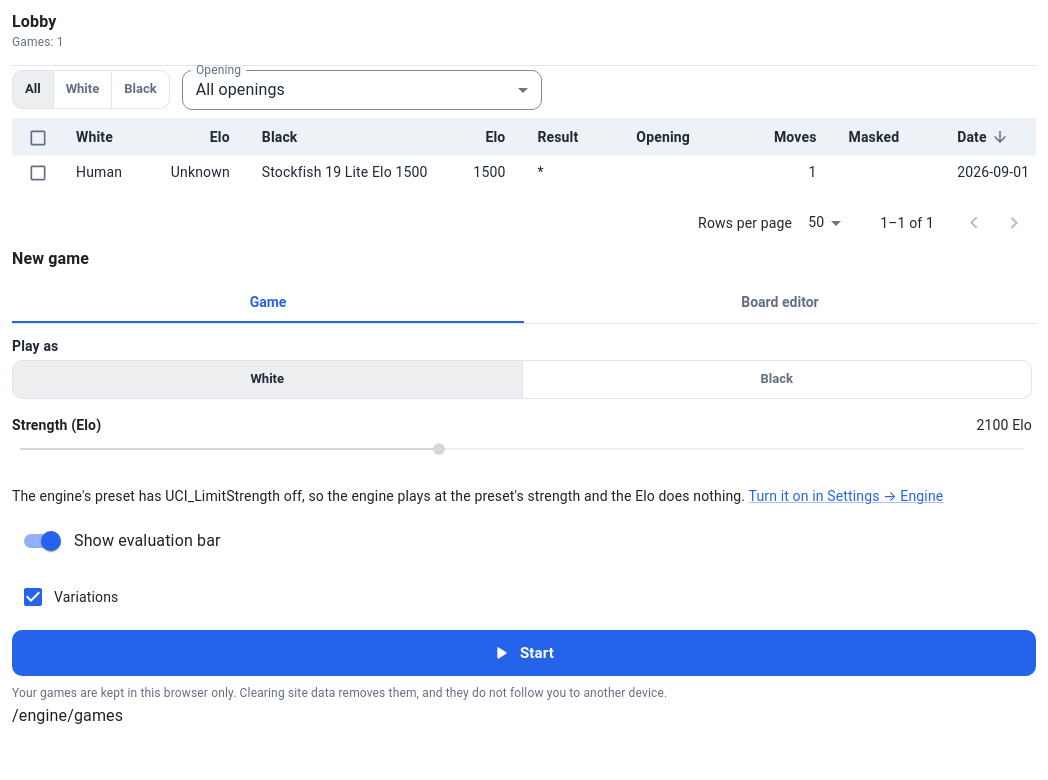
Test: Lobby — the table (CTA-100) › offers the one page-size set, 25 / 50 / 100 / 250, 50 by default (CTA-109)
Press the mouse on the dropdown labelled "50" at (816, 222), box [808, 214, 824, 230]
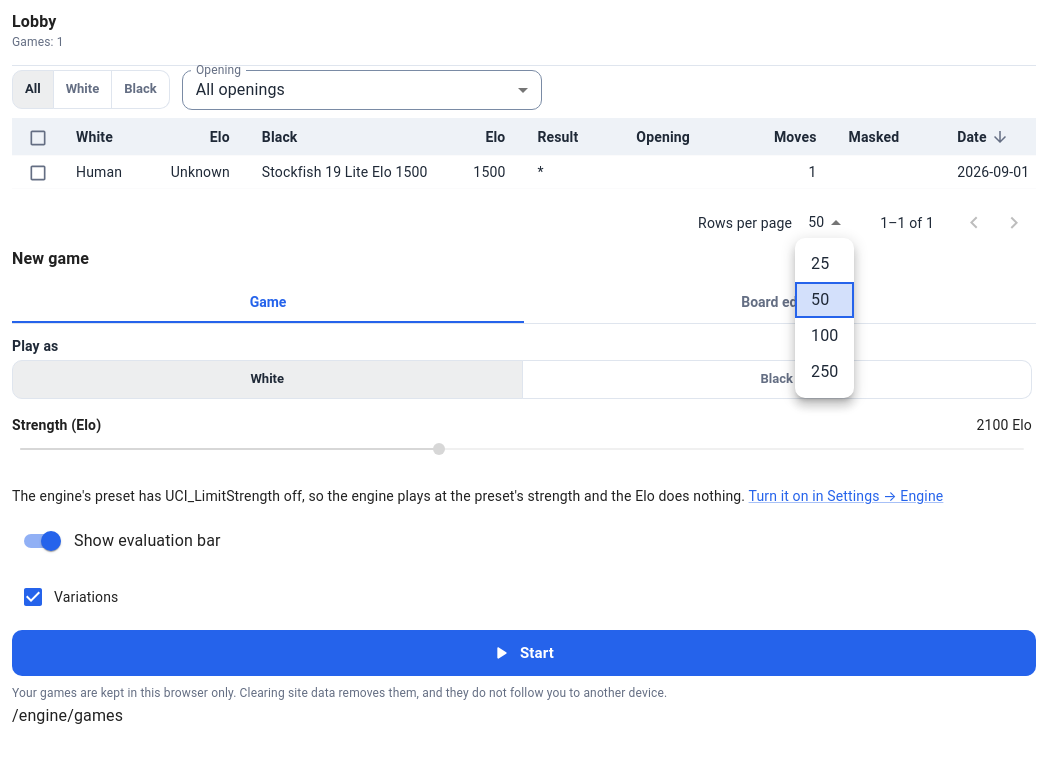
Check: the options read "25", "50", "100", "250", in this order, box [811, 254, 829, 273]; [795, 282, 854, 318]; [811, 326, 838, 345]; [811, 362, 838, 381]
